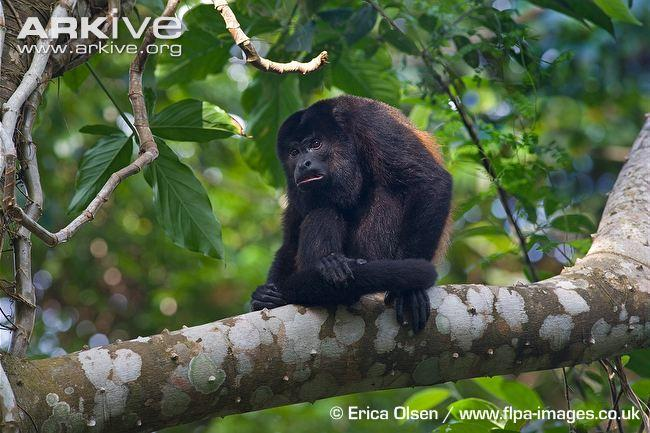monkey: (248, 95, 455, 330)
